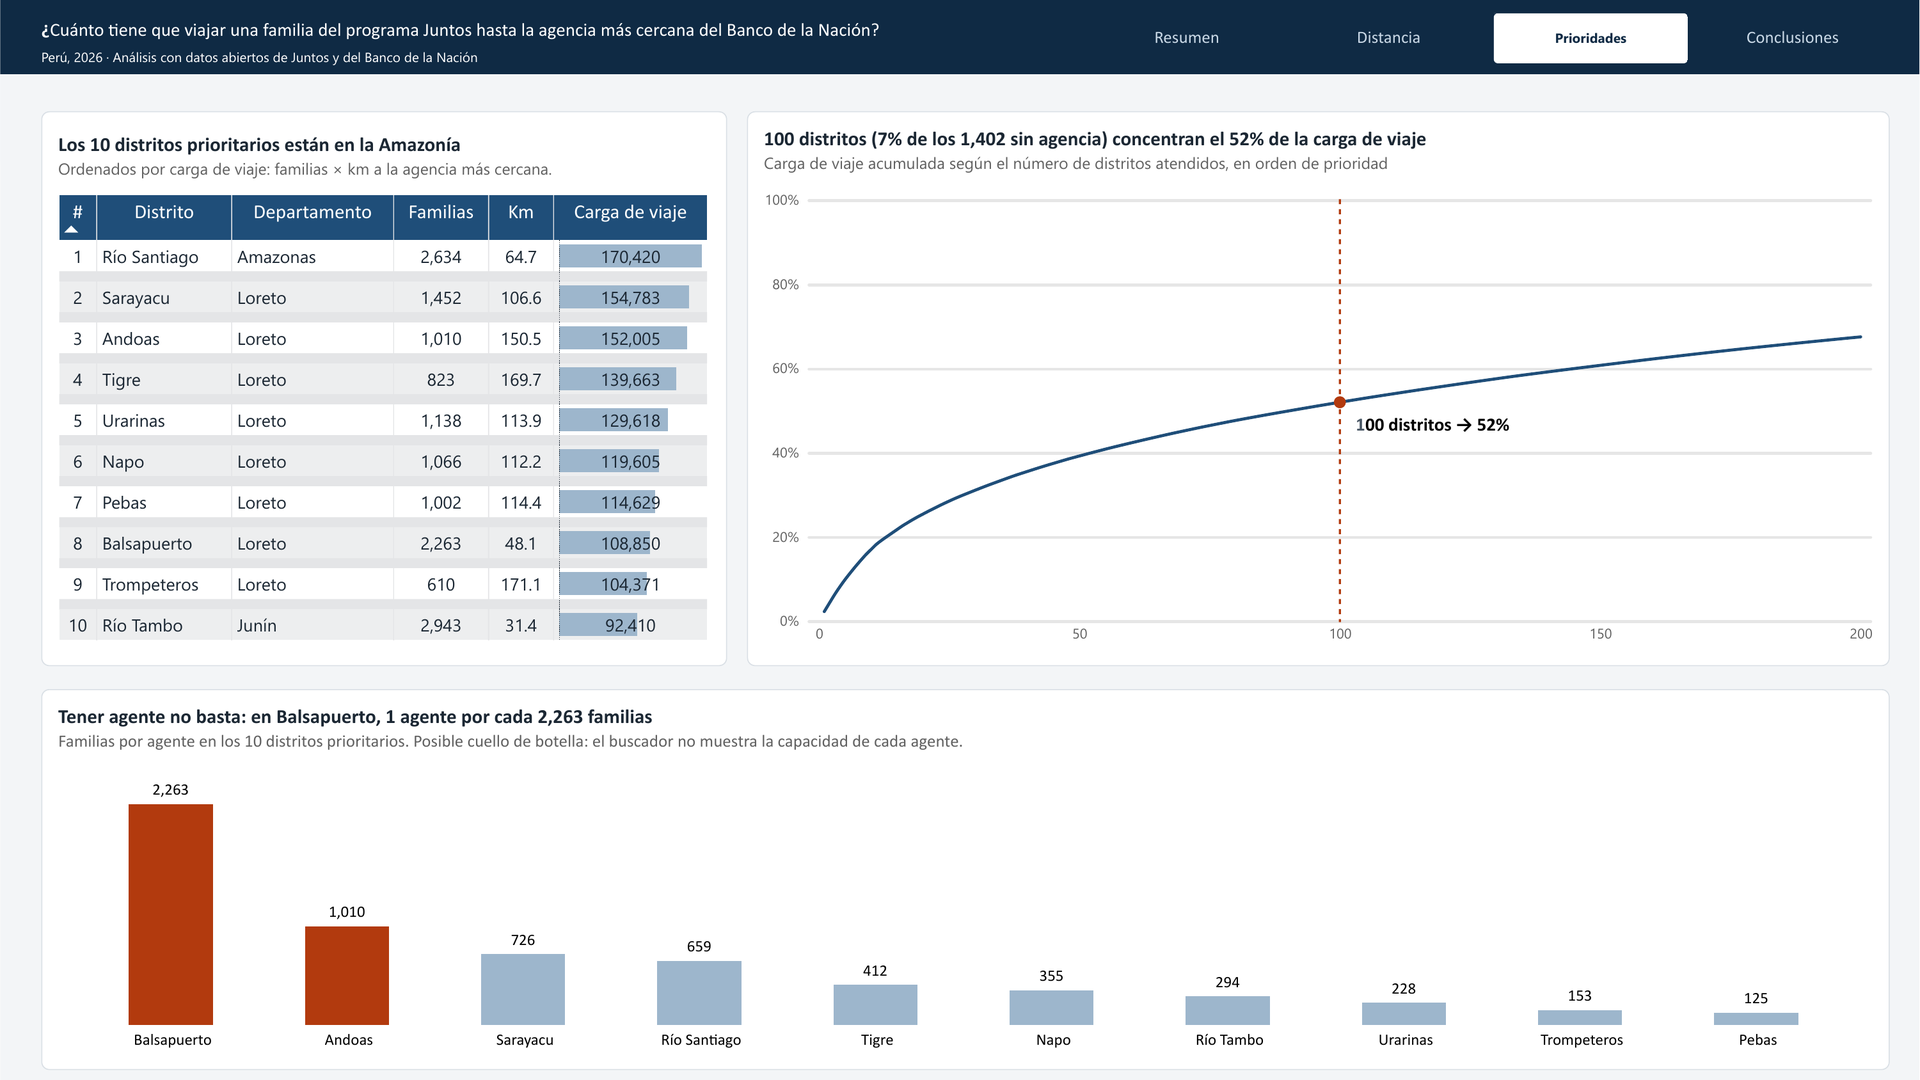

The page's visual inventory and layout, read from the dashboard file:
{"tool":"powerbi","page":{"name":"Prioridades","canvas":[1920,1080],"ordinal":2},"visuals":[{"type":"shape","box":[0,0,1920,74.3],"z":0},{"type":"tableEx","title":"Los 10 distritos prioritarios están en la Amazonía","fields":{"Values":["resultado_distrito.RANKING_PRIORIDAD","resultado_distrito.Distrito 2","resultado_distrito.Departamento2","Sum(resultado_distrito.FAMILIAS_ABONADAS)","resultado_distrito.DIST_KM","Sum(resultado_distrito.CARGA_VIAJE)"]},"box":[41.4,111.4,685.7,554.3],"z":1000},{"type":"lineChart","title":"   100 distritos (7% de los 1,402 sin agencia) concentran el 52% de la carga de viaje","fields":{"Category":["resultado_distrito.RANKING_PRIORIDAD"],"Y":["evaluacion_aperturas.% carga acumulada","evaluacion_aperturas.Punto 100"]},"box":[747.1,111.4,1142.9,554.3],"z":2000},{"type":"clusteredColumnChart","title":"Tener agente no basta: en Balsapuerto, 1 agente por cada 2,263 familias","fields":{"Category":["resultado_distrito.Distrito 2"],"Y":["resultado_distrito.Familias por agente"]},"box":[41.4,688.6,1848.6,381.4],"z":3000},{"type":"textbox","box":[1355.7,412.9,300,34.3],"z":4000},{"type":"pageNavigator","box":[1090,12.5,800,50],"z":5000},{"type":"textbox","box":[41.2,17.5,851.1,29.6],"z":7001},{"type":"textbox","box":[41.2,47.5,537.3,26.9],"z":7002}]}

Visuals, with their boxes in screenshot pixels (x1, y1, x2, y2), scaled from the page's 1920x1080 canvas onto the 1920x1080 screenshot:
shape: region(0, 0, 1919, 74)
"Los 10 distritos prioritarios están en la Amazonía" tableEx: region(41, 111, 727, 666)
"   100 distritos (7% de los 1,402 sin agencia) concentran el 52% de la carga de viaje" lineChart: region(747, 111, 1890, 666)
"Tener agente no basta: en Balsapuerto, 1 agente por cada 2,263 familias" clusteredColumnChart: region(41, 689, 1890, 1070)
textbox: region(1356, 413, 1656, 447)
pageNavigator: region(1090, 12, 1890, 62)
textbox: region(41, 18, 892, 47)
textbox: region(41, 48, 578, 74)
